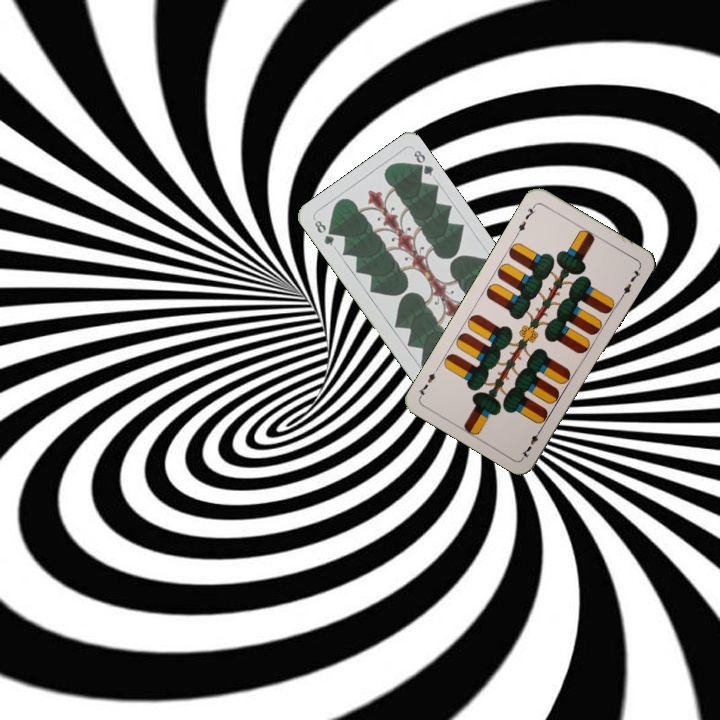E7: (517, 424, 545, 461), (512, 200, 539, 237)
G8: (310, 215, 337, 249)
